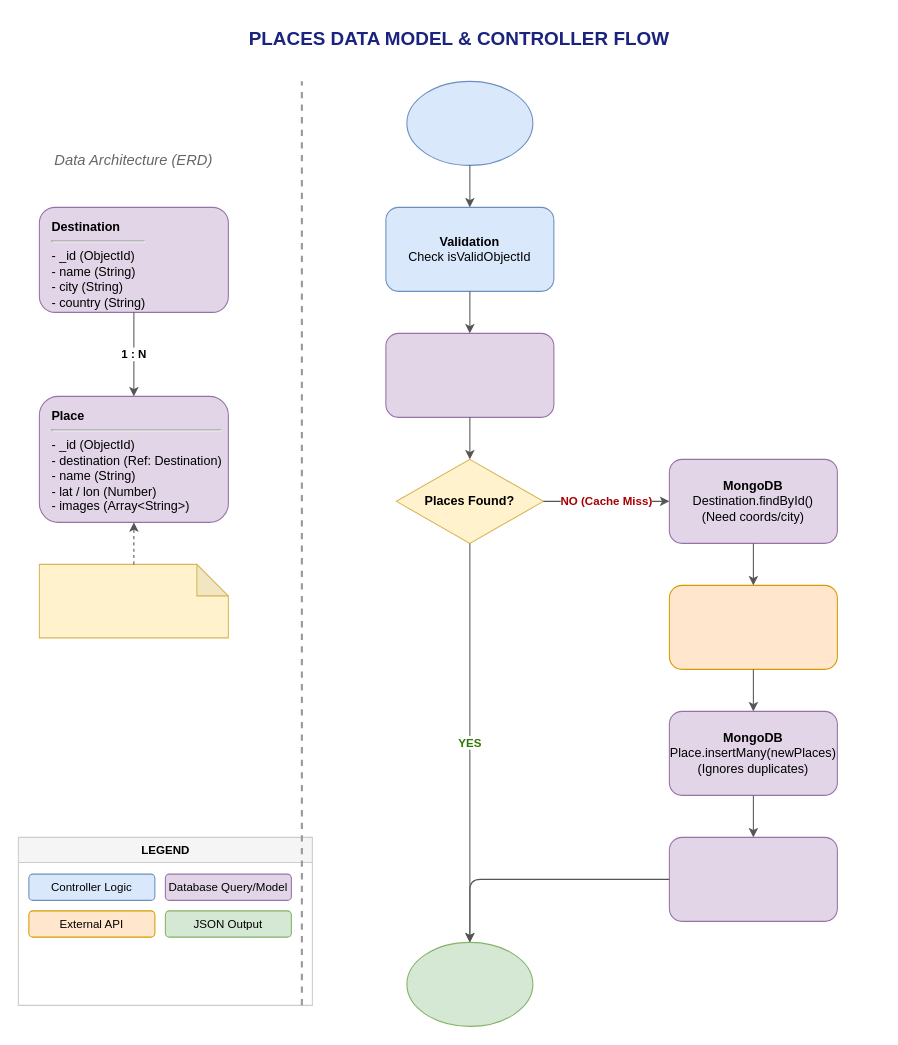
The diagram is 898 pixels wide and 1045 high, and some of its shapes have lost their labels. Each missing label, with the centre of its shape:
"External API Service fetchAndFormatPlaces() (Geoapify)" goes at (752,626).
"MongoDB Place.find( { destination } )" goes at (469,374).
"MongoDB Re-fetch Place.find()" goes at (752,878).
"OUTPUT Return JSON Payload" goes at (469,983).
"START GET /places ?destinationId=..." goes at (469,122).
"Unique Compound Index { destination: 1, name: 1 } (Prevents duplicates)" goes at (133,600).
